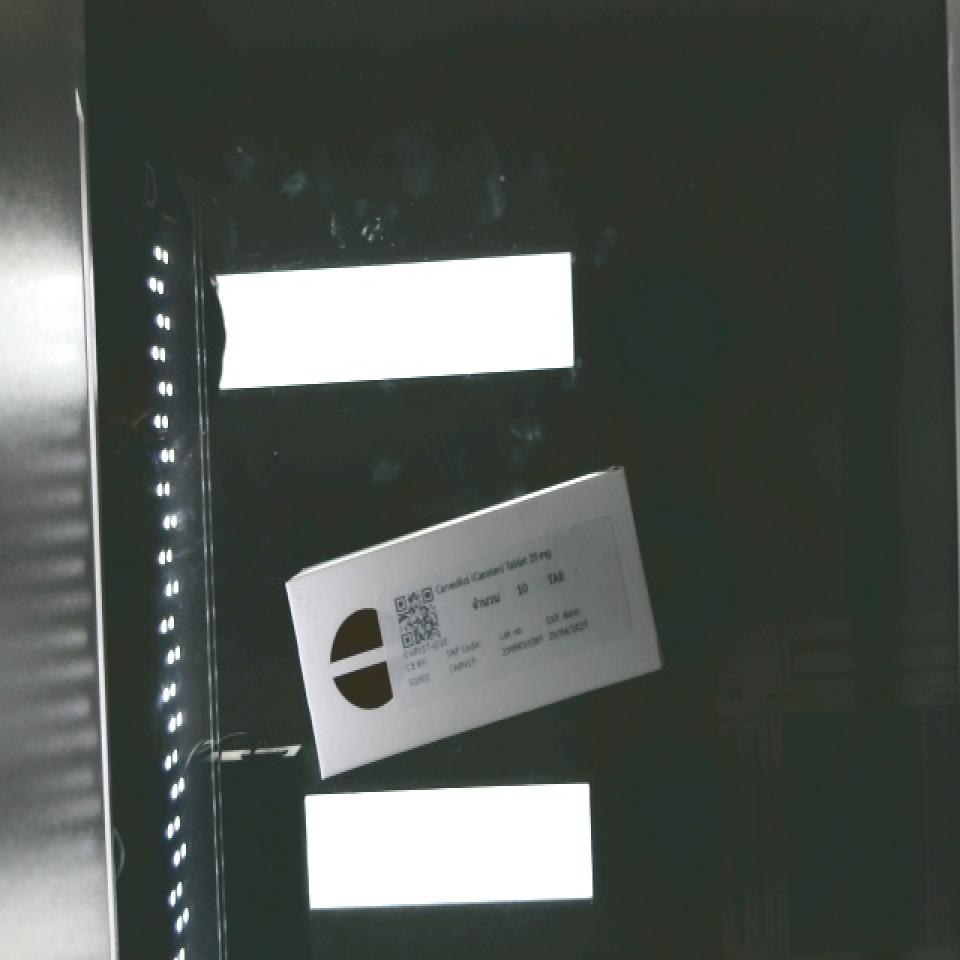medicine_box: (256, 462, 684, 781)
qr_code: (381, 577, 453, 662)
